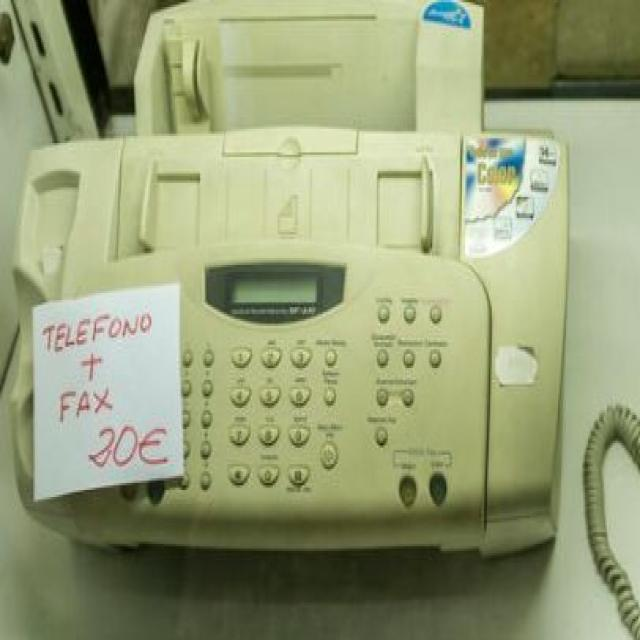electronic: (14, 77, 624, 594)
